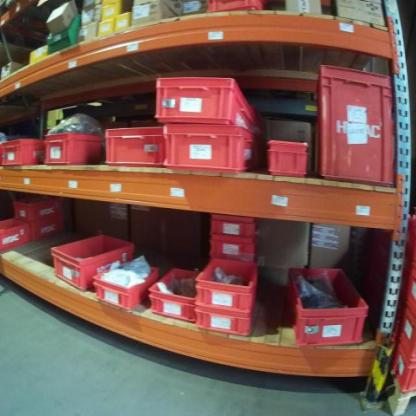small_load_carrier: (312, 61, 399, 189), (284, 265, 369, 348), (151, 74, 264, 132), (51, 229, 137, 294), (160, 125, 256, 171), (92, 259, 162, 314), (192, 255, 259, 310), (148, 262, 196, 327), (103, 124, 165, 171), (44, 130, 103, 168), (195, 307, 260, 338), (208, 235, 262, 264), (11, 195, 65, 223), (267, 141, 308, 176), (1, 138, 43, 170), (207, 218, 261, 242), (394, 302, 415, 363), (27, 214, 66, 244), (1, 216, 31, 255), (388, 352, 414, 395), (398, 264, 414, 317)
